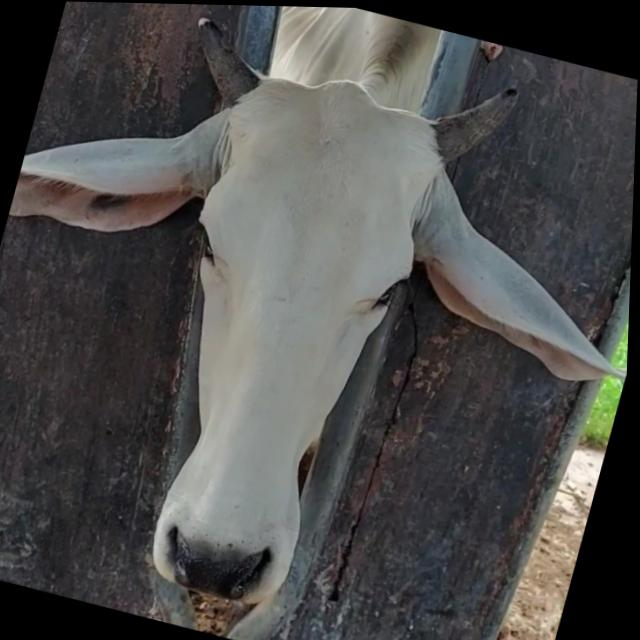cowFace: (106, 58, 448, 623)
